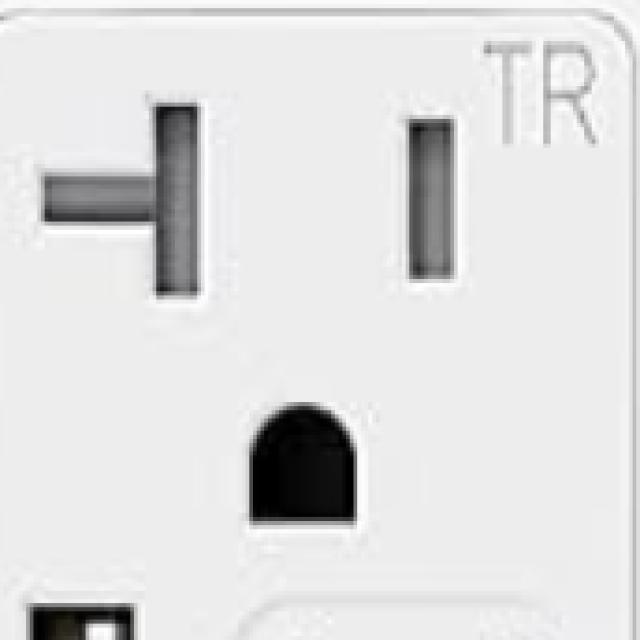type_b_tc: (3, 8, 631, 579)
